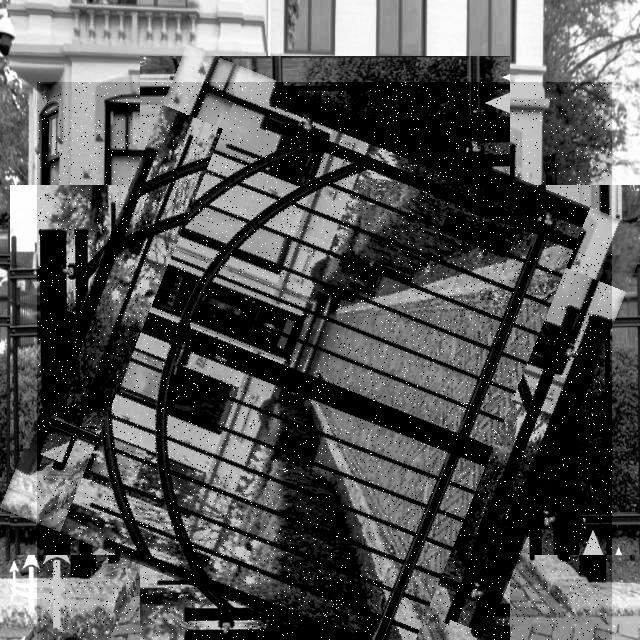fences: (37, 82, 612, 640)
